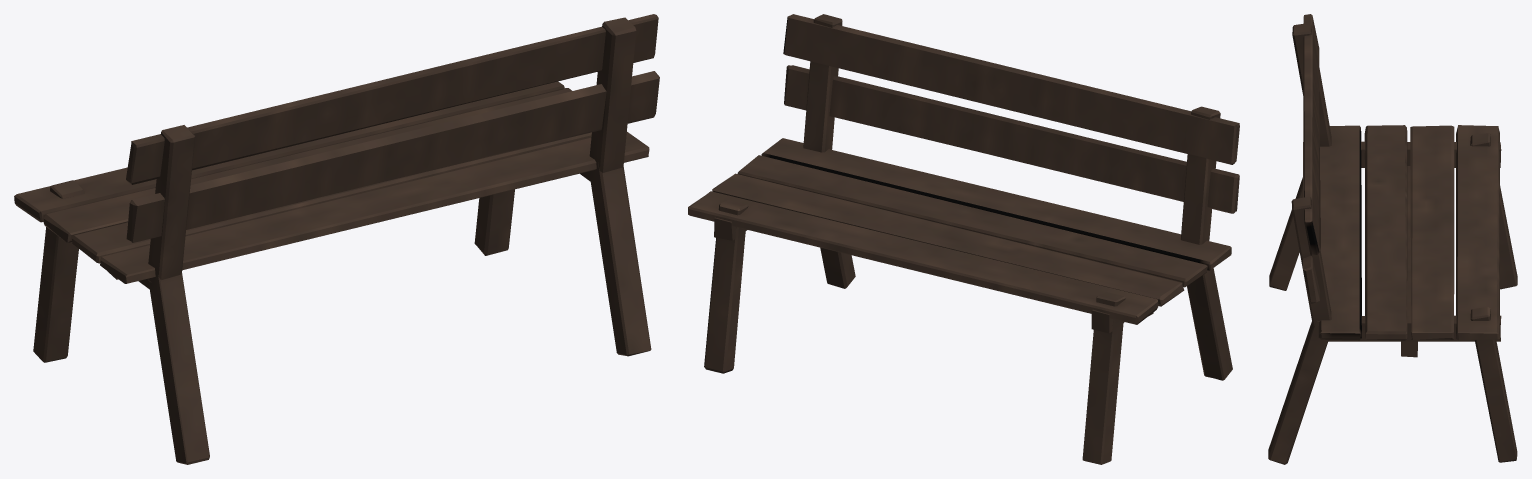
File: bench_01.glb
The picture shows the model from 3 angles, left to right: view 1: azimuth 30°, elevation 25°; view 2: azimuth 150°, elevation 25°; view 3: azimuth 270°, elevation 25°; orthographic projection. The views are drawn at different scales.
Parts seen in each view (by area): view 1: bench_01; view 2: bench_01; view 3: bench_01.
Boxes of the visible parts, x1,y1,x2,y2 form: bench_01: (14,14,659,464); bench_01: (688,14,1239,464); bench_01: (1268,14,1517,464).
Size of the model in its own units: 1.51 by 0.8801 by 0.7644.
1 material, 1 textured.
